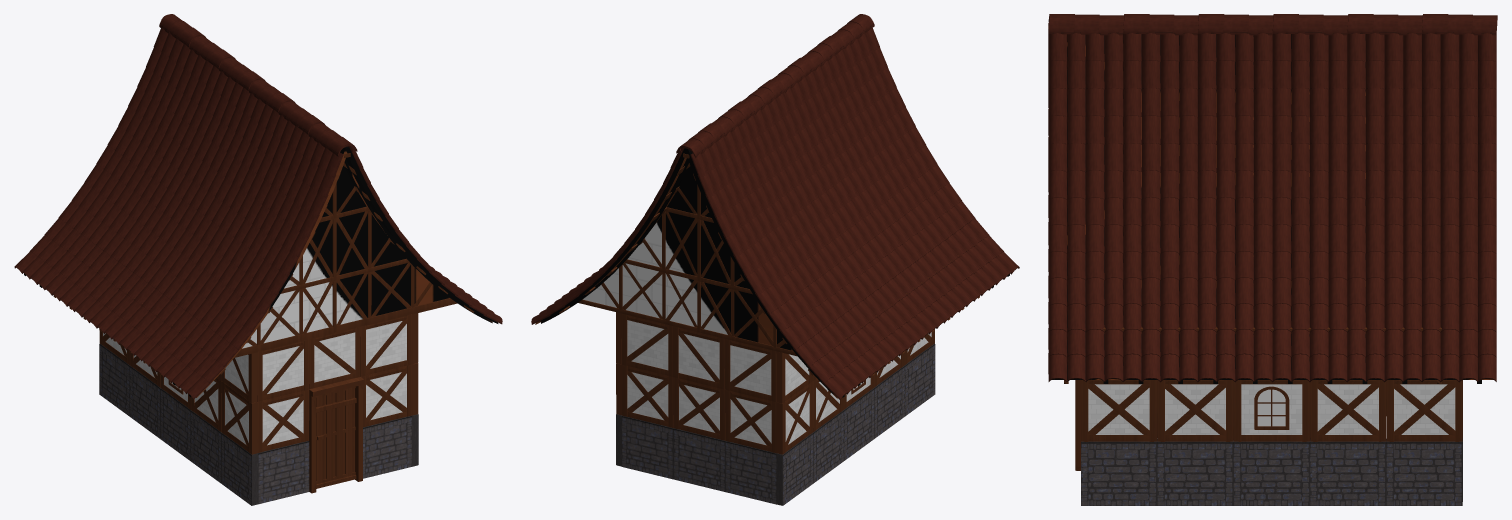
Rendered from House1_LOD1.fbx.
The picture shows the model from 3 angles, left to right: view 1: azimuth 30°, elevation 25°; view 2: azimuth 150°, elevation 25°; view 3: azimuth 270°, elevation 25°; orthographic projection. The views are drawn at different scales.
Parts seen in each view (by area): view 1: House1_LOD1; view 2: House1_LOD1; view 3: House1_LOD1.
Part boxes in pixels (x1,y1,x2,y2): House1_LOD1: (14,14,502,505); House1_LOD1: (531,14,1019,505); House1_LOD1: (1048,14,1497,505).
Size of the model in its own units: 1292 by 1386 by 1285.
